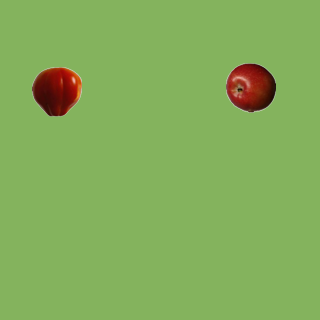Apple Braeburn: (225, 62, 275, 112)
Tomato 1: (31, 66, 81, 116)
